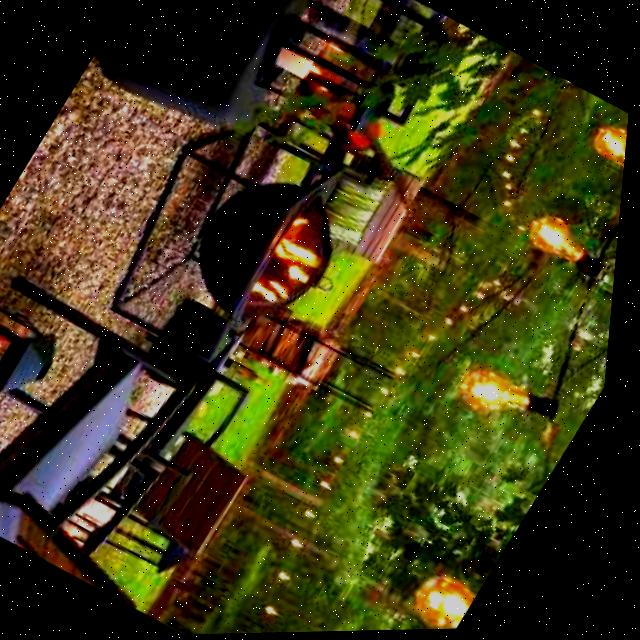Fire: (237, 210, 350, 329)
